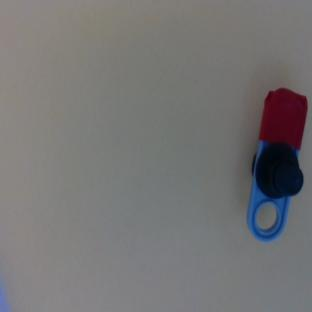part_1_good: (245, 86, 310, 243)
